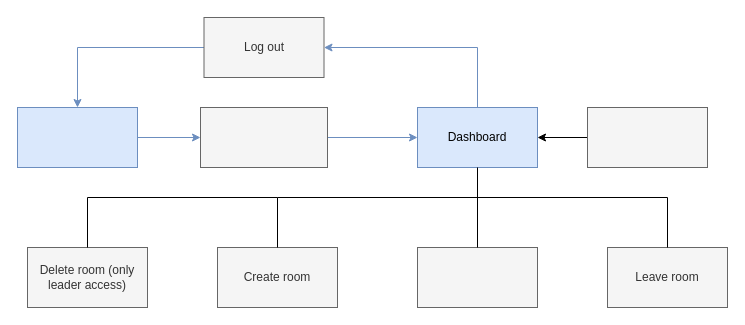
The diagram is 745 pixels wide and 325 high, and some of its shapes have lost their labels. Here are the shapes that lost their labels. From the top down, the centre of each, then its label:
[77,137]: Log in
[264,137]: Authorise spotify
[647,137]: Room Invite
[477,277]: Join room
